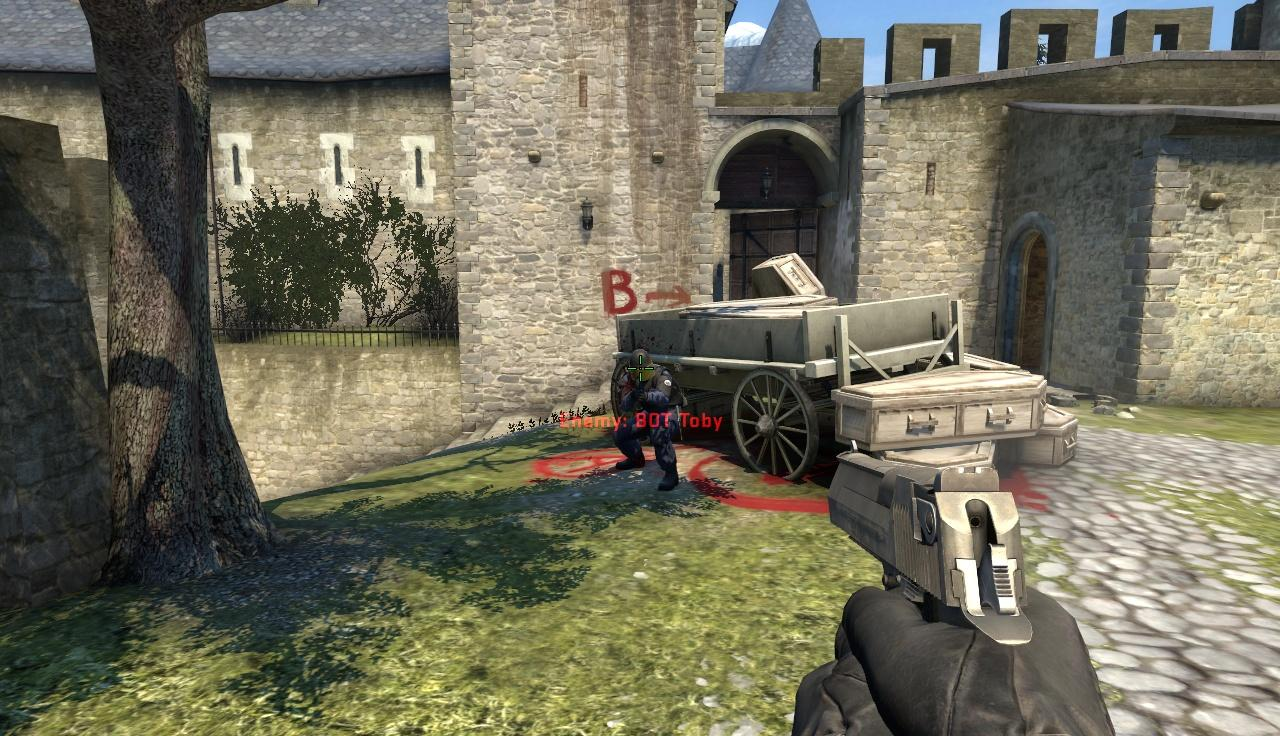ct: (617, 348, 677, 487)
cthead: (631, 350, 654, 379)
pistol: (826, 448, 1116, 736)
